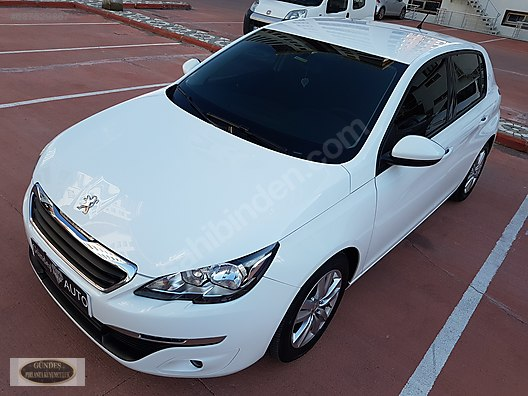peugeot: (17, 17, 499, 377)
